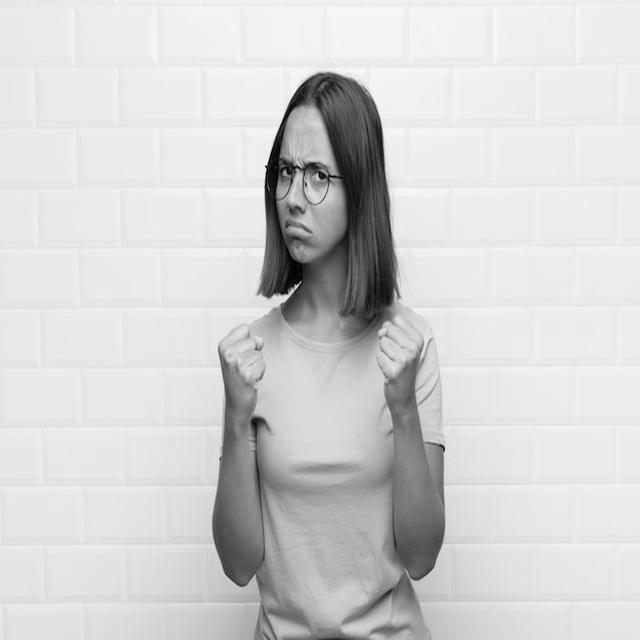Angry: (276, 107, 351, 263)
